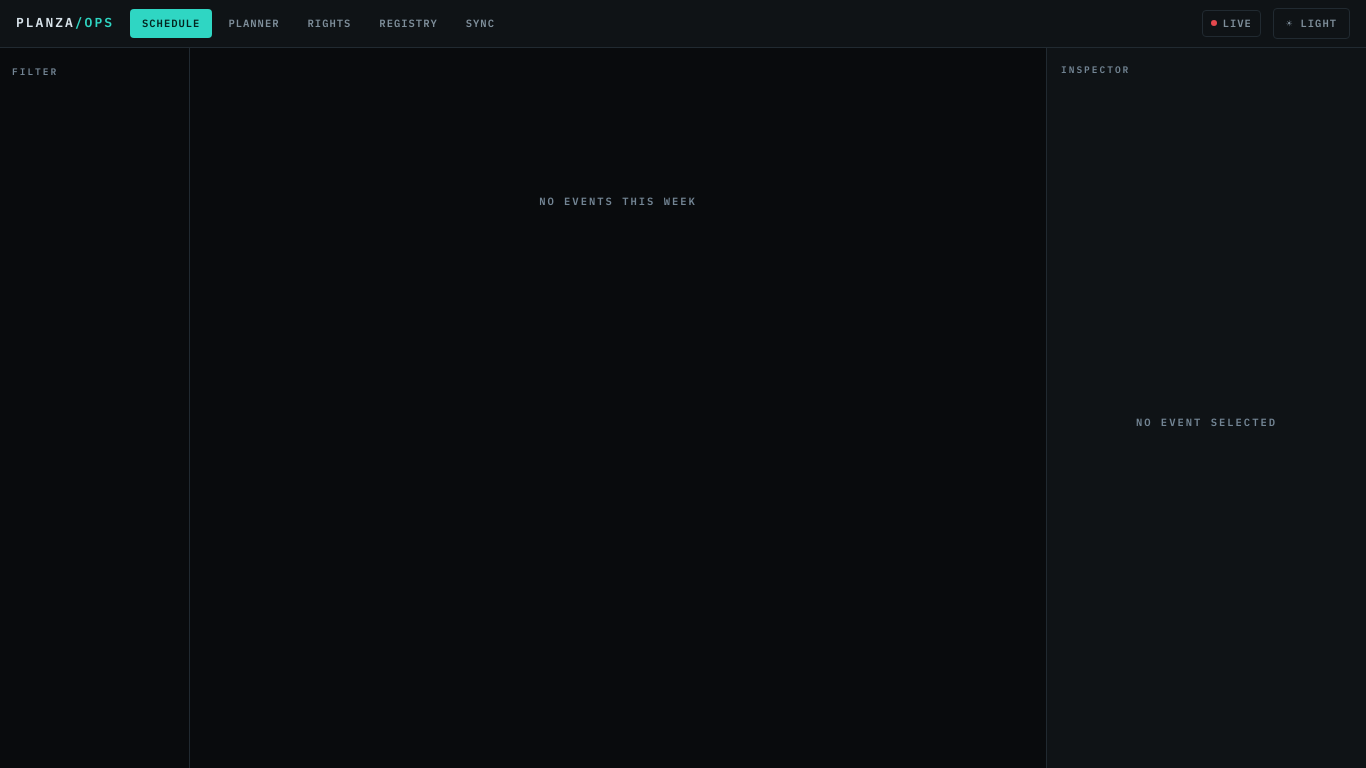
routing inside the shell › clicking the PLANNER tab navigates to /ops/planner and shows the Rundown screen
The width and height of the screenshot is (1366, 768).
What coordinates should you click on to do the following:
click the link "PLANNER"
I would click on:
 (254, 23)
Its box is [228,16,280,30].
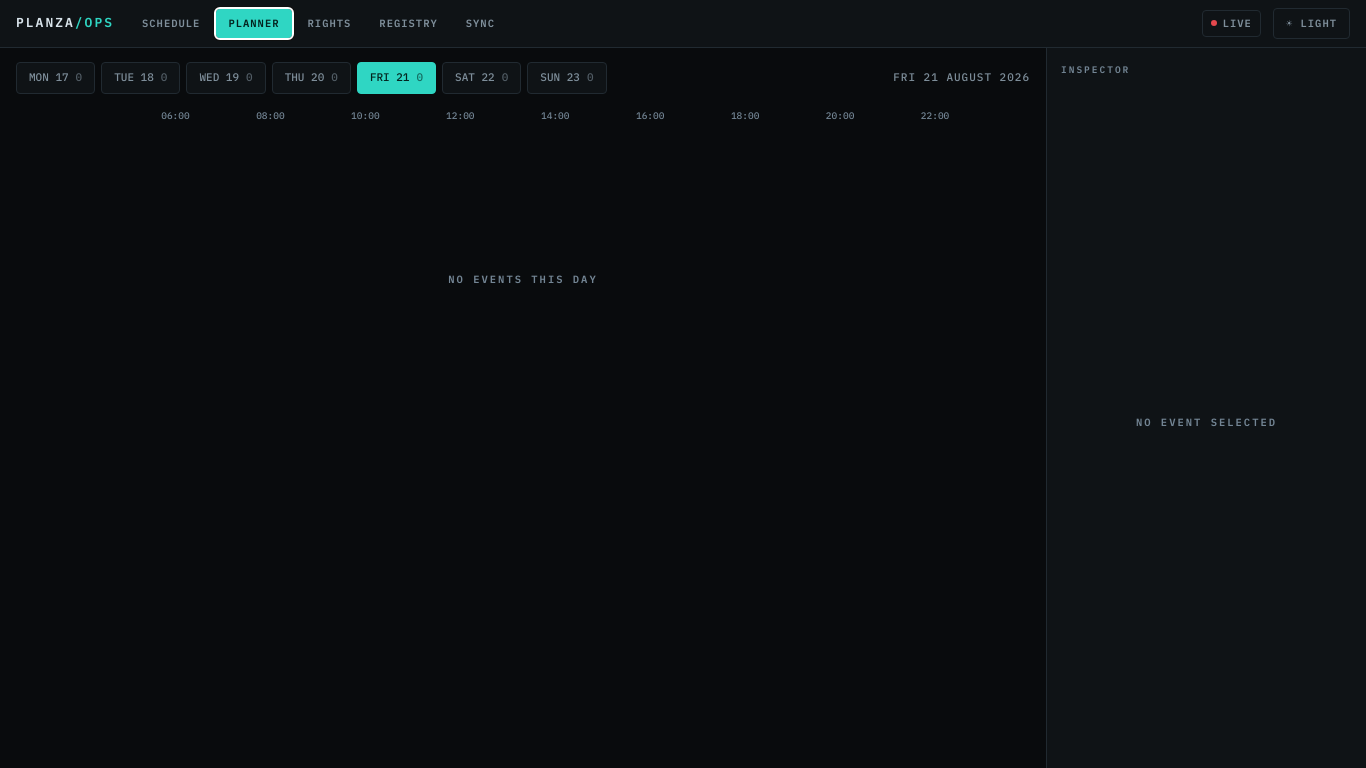
Expected: the element with test id "ops-screen-planner" is shown
